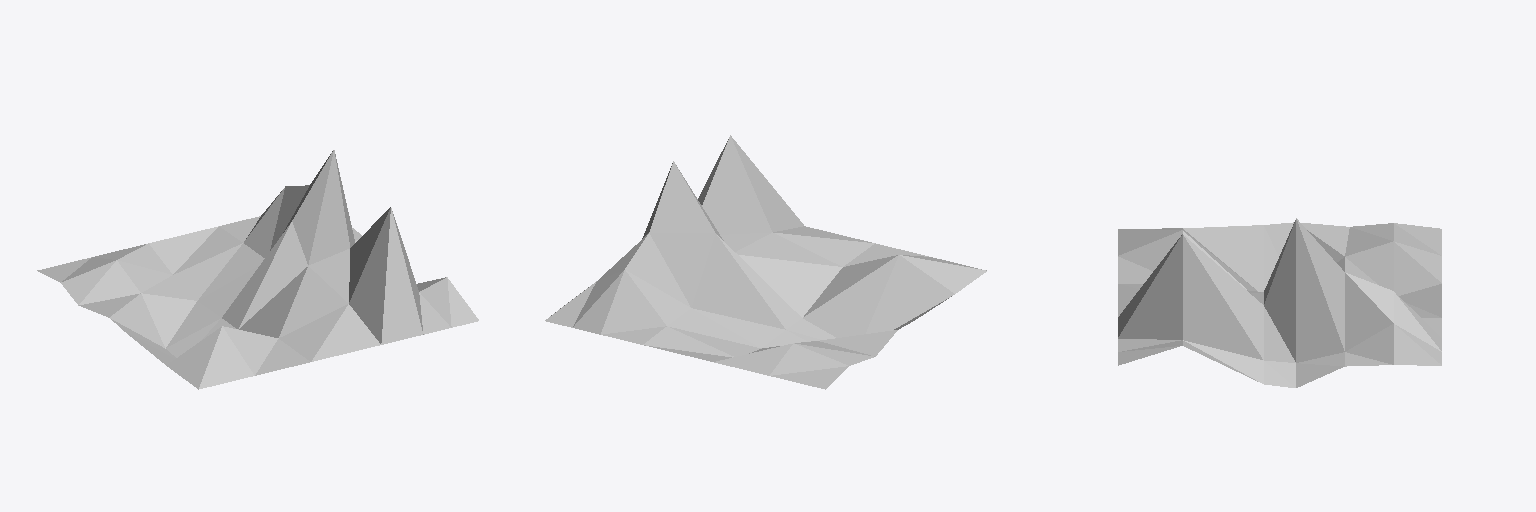
The model's file is ter7.obj.
3 renders of one model, left to right at view 1: azimuth 30°, elevation 25°; view 2: azimuth 150°, elevation 25°; view 3: azimuth 270°, elevation 25°, orthographic.
Parts seen in each view (by area): view 1: ter7; view 2: ter7; view 3: ter7.
Boxes of the visible parts, <box> form: ter7: <box>37,150,478,389</box>; ter7: <box>545,135,986,389</box>; ter7: <box>1118,218,1441,387</box>.
Size of the model in its own units: 507 by 272 by 500.